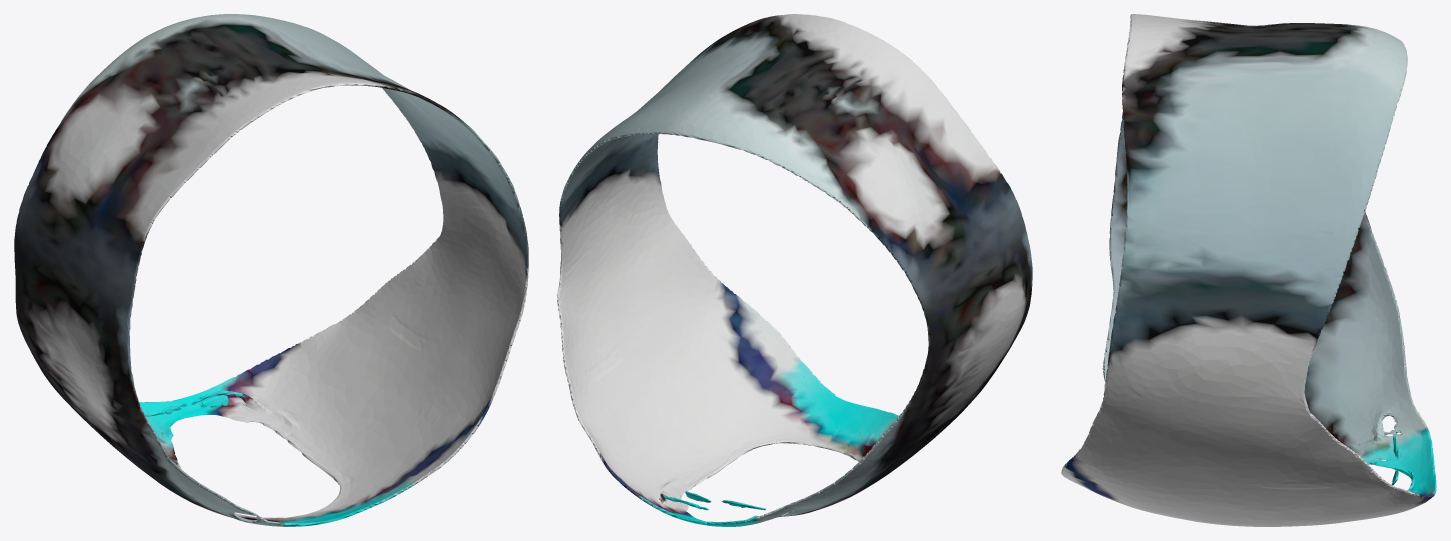
File: ring_storm.glb
3 views of the same model, side by side, from view 1: azimuth 30°, elevation 25°; view 2: azimuth 150°, elevation 25°; view 3: azimuth 270°, elevation 25° (orthographic). The views are drawn at different scales.
Parts seen in each view (by area): view 1: geometry_0; view 2: geometry_0; view 3: geometry_0.
Part boxes in pixels (<box>): geometry_0: <box>14,14,528,526</box>; geometry_0: <box>557,14,1032,526</box>; geometry_0: <box>1061,14,1436,526</box>.
Bounding box in the file's own units: 0.5938 × 0.5959 × 0.4376.
